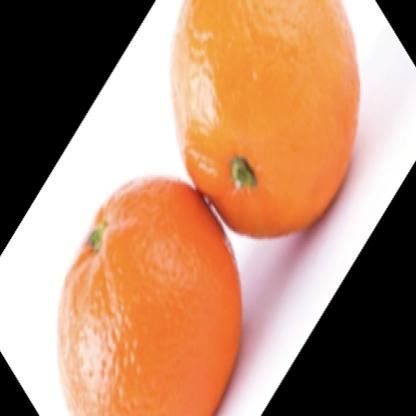fresh: (60, 1, 360, 416)
